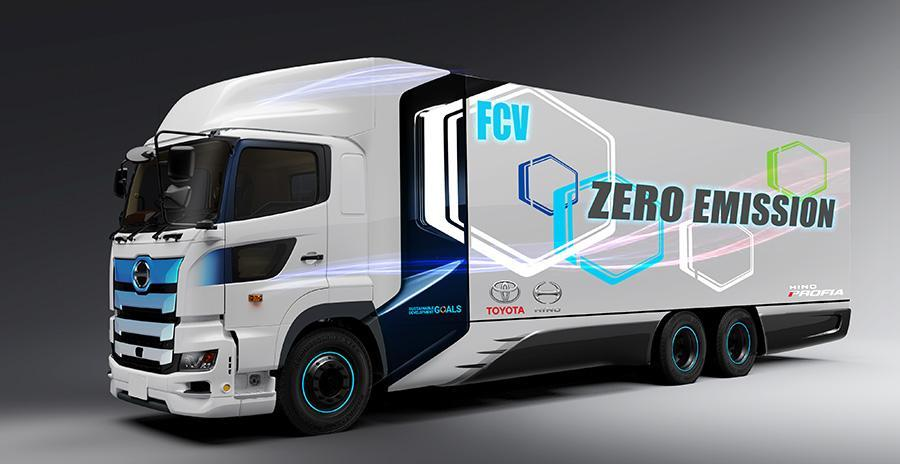truck: (108, 57, 851, 434)
